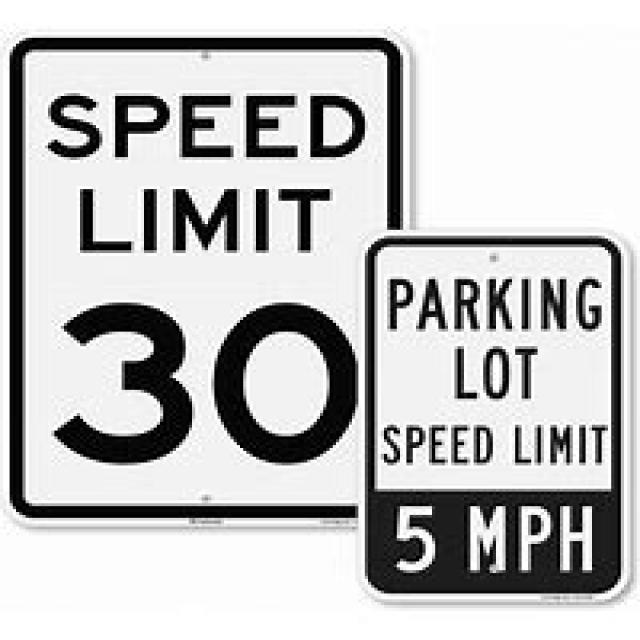speedLimit30: (13, 44, 397, 509)
